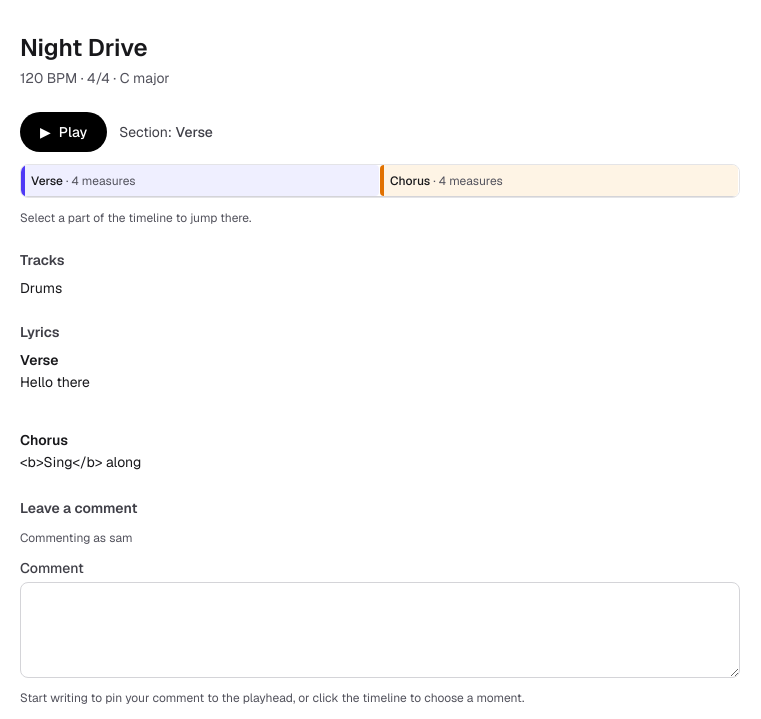
Test: Comments › renders comment text literally
Check: the heading "Night Drive" is shown, box [20,32,148,63]
Check: the text "Commenting as sam" is shown, box [20,530,132,546]
Type "x" into the text box labelled "Comment" at (380, 630), box [20,582,740,678]
(page scrolled)
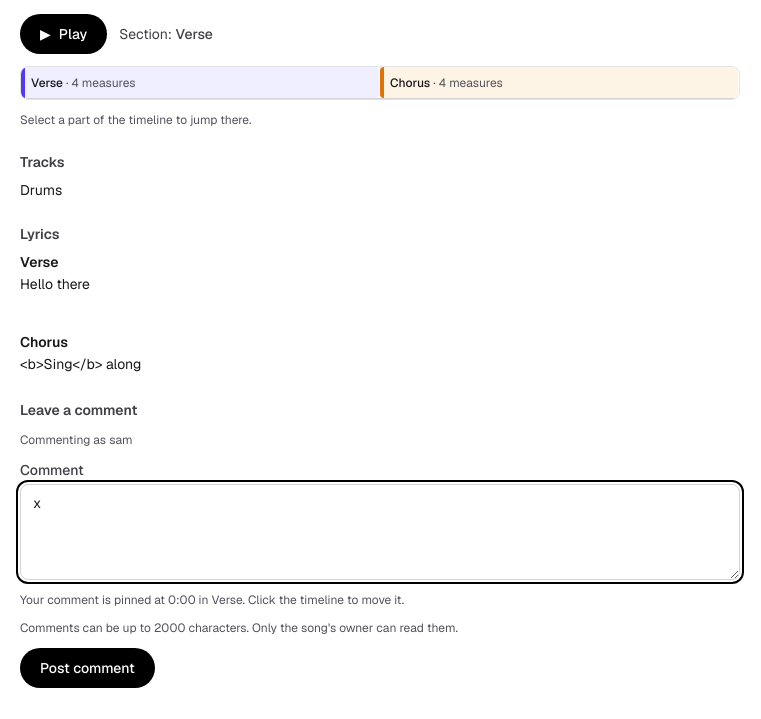
Click the button "Post comment" at (87, 668), box [20,648,155,688]
(page scrolled)
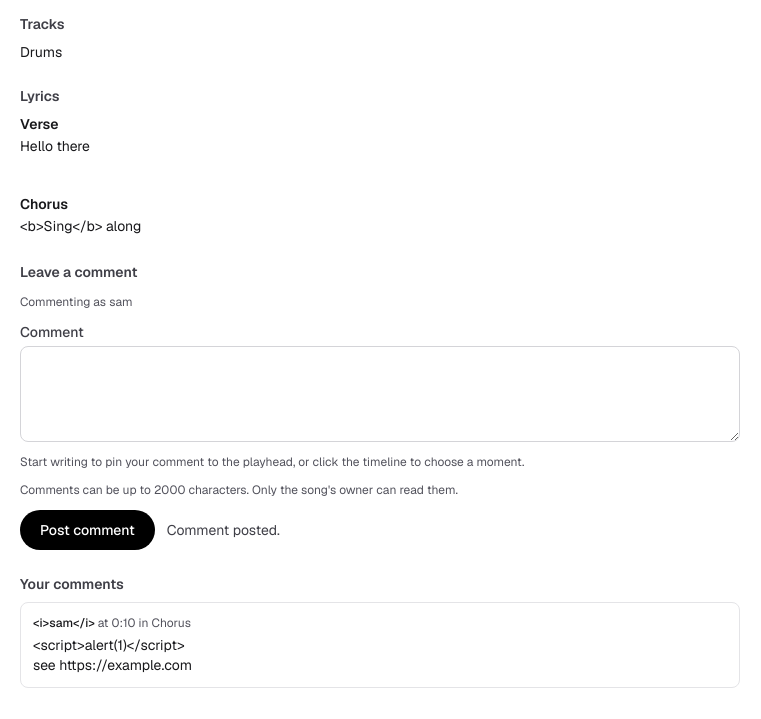
Check: the text "<script>alert(1)</script> see https://example.com" is shown, box [33,636,192,674]
Check: the text "<i>sam</i>" is shown, box [33,615,95,631]
